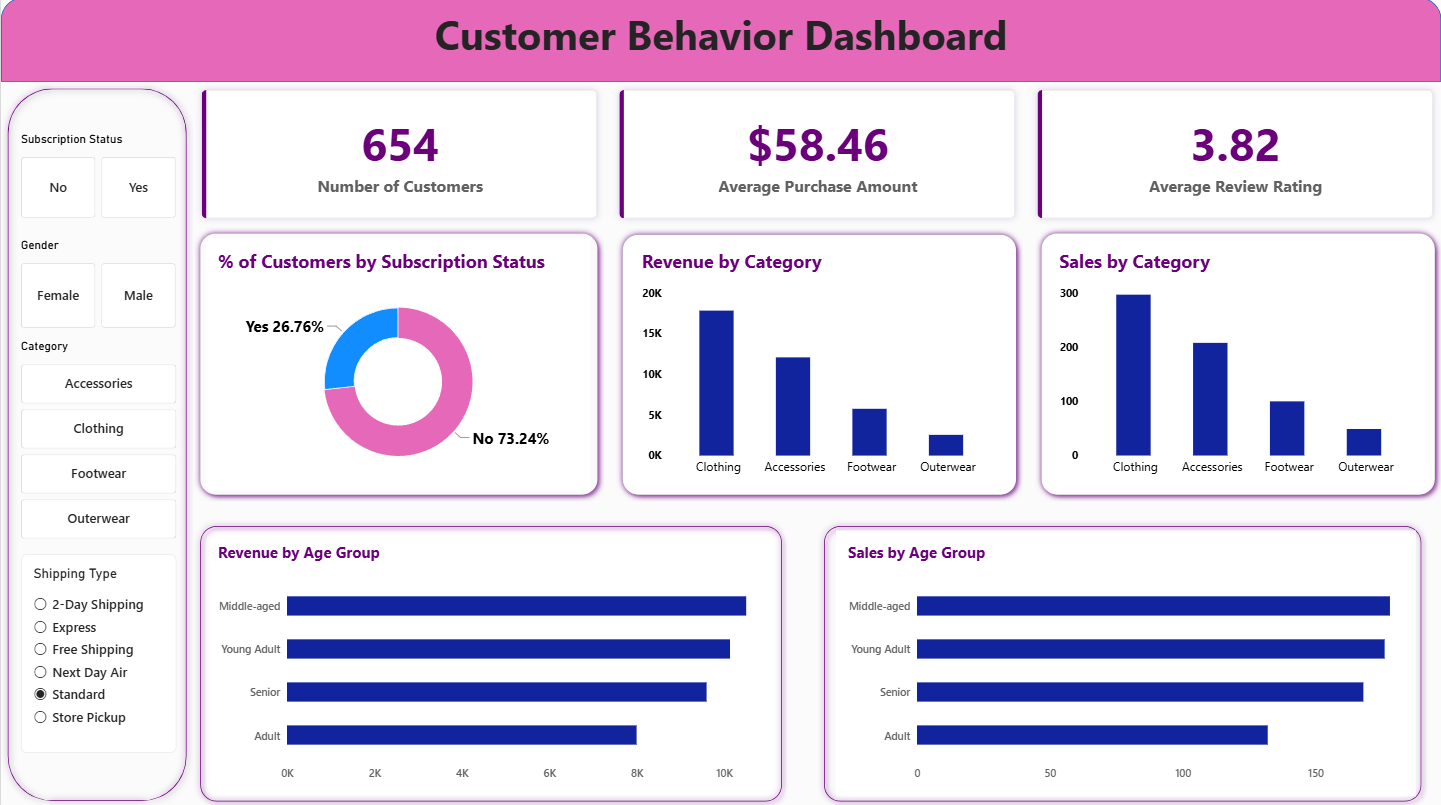

Layout of this report page (visuals, bound fields, positions):
{"tool":"powerbi","page":{"name":"Page 1","canvas":[1920,1080],"ordinal":0},"visuals":[{"type":"cardVisual","fields":{"Data":["customer_bahavior customer_data.Number of Customers","customer_bahavior customer_data.Average Purchase Amount","customer_bahavior customer_data.Average Review Rating"]},"box":[256.4,111.6,1664,193.6],"z":0},{"type":"shape","box":[0,0,1920.4,111.6],"z":1000},{"type":"textbox","box":[0,12.2,1920.4,99.4],"z":2000},{"type":"shape","box":[256.4,305.2,547.7,366.3],"z":3000},{"type":"donutChart","title":"% of Customers by Subscription Status","fields":{"Category":["customer_bahavior customer_data.subscription_status"],"Y":["CountNonNull(customer_bahavior customer_data.customer_id)"]},"box":[273.8,319.2,512.8,336.6],"z":4000},{"type":"shape","box":[819.8,307,542.4,364.5],"z":5000},{"type":"shape","box":[1377.6,305.2,542.4,366.3],"z":6000},{"type":"clusteredColumnChart","title":"Revenue by Category","fields":{"Y":["Sum(customer_bahavior customer_data.purchase_amount)"],"Category":["customer_bahavior customer_data.category"]},"box":[838.7,319.6,506.6,336.7],"z":7000},{"type":"clusteredColumnChart","title":"Sales by Category","fields":{"Y":["CountNonNull(customer_bahavior customer_data.customer_id)"],"Category":["customer_bahavior customer_data.category"]},"box":[1395.4,319.2,507.6,336.6],"z":8000},{"type":"shape","box":[0,111.6,256.4,968],"z":9000},{"type":"advancedSlicerVisual","title":"Subscription Status","fields":{"Values":["customer_bahavior customer_data.subscription_status"]},"box":[26.2,177.9,207.6,115.1],"z":10000},{"type":"advancedSlicerVisual","title":"Gender","fields":{"Values":["customer_bahavior customer_data.gender"]},"box":[26.2,319.2,207.6,120.3],"z":11000},{"type":"advancedSlicerVisual","title":"Category","fields":{"Values":["customer_bahavior customer_data.category"]},"box":[26.2,455.2,207.6,266.9],"z":12000},{"type":"listSlicer","title":"Shipping Type","fields":{"Values":["customer_bahavior customer_data.shipping_type"]},"box":[26.2,741.3,207.6,265.1],"z":13000},{"type":"clusteredBarChart","title":"Revenue by Age Group","fields":{"Y":["Sum(customer_bahavior customer_data.purchase_amount)"],"Category":["customer_bahavior customer_data.age_group"]},"box":[273.8,709.9,776.2,354.1],"z":14000},{"type":"shape","box":[256.4,694.2,793.6,385.5],"z":15000},{"type":"shape","box":[1088.4,694.2,814.5,385.5],"z":16000},{"type":"clusteredBarChart","title":"Sales by Age Group","fields":{"Y":["CountNonNull(customer_bahavior customer_data.customer_id)"],"Category":["customer_bahavior customer_data.age_group"]},"box":[1112.8,709.9,772.7,354.1],"z":17000}]}

Visuals, with their boxes in screenshot pixels (x1, y1, x2, y2), scaled from the page's 1920x1080 canvas onto the 1441x805 screenshot:
cardVisual - customer_bahavior customer_data.Number of Customers x customer_bahavior customer_data.Average Purchase Amount: locate(192, 83, 1440, 227)
shape: locate(0, 0, 1440, 83)
textbox: locate(0, 9, 1440, 83)
shape: locate(192, 227, 603, 501)
"% of Customers by Subscription Status" donutChart: locate(205, 238, 590, 489)
shape: locate(615, 229, 1022, 501)
shape: locate(1034, 227, 1440, 501)
"Revenue by Category" clusteredColumnChart: locate(629, 238, 1010, 489)
"Sales by Category" clusteredColumnChart: locate(1047, 238, 1428, 489)
shape: locate(0, 83, 192, 804)
"Subscription Status" advancedSlicerVisual: locate(20, 133, 175, 218)
"Gender" advancedSlicerVisual: locate(20, 238, 175, 328)
"Category" advancedSlicerVisual: locate(20, 339, 175, 538)
"Shipping Type" listSlicer: locate(20, 553, 175, 750)
"Revenue by Age Group" clusteredBarChart: locate(205, 529, 788, 793)
shape: locate(192, 517, 788, 804)
shape: locate(817, 517, 1428, 804)
"Sales by Age Group" clusteredBarChart: locate(835, 529, 1415, 793)
